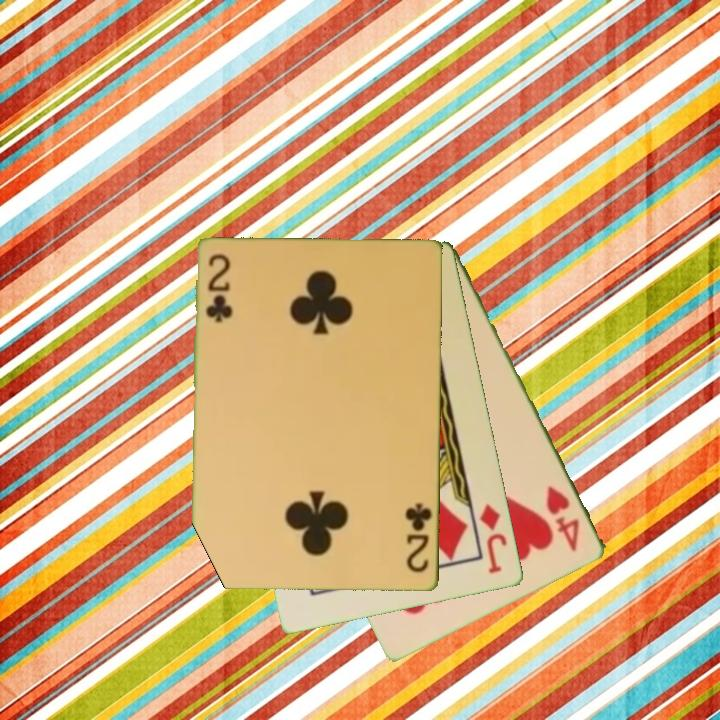2c: (402, 500, 435, 576), (202, 251, 233, 326)
4h: (543, 482, 583, 555)
Jd: (477, 500, 510, 577)
